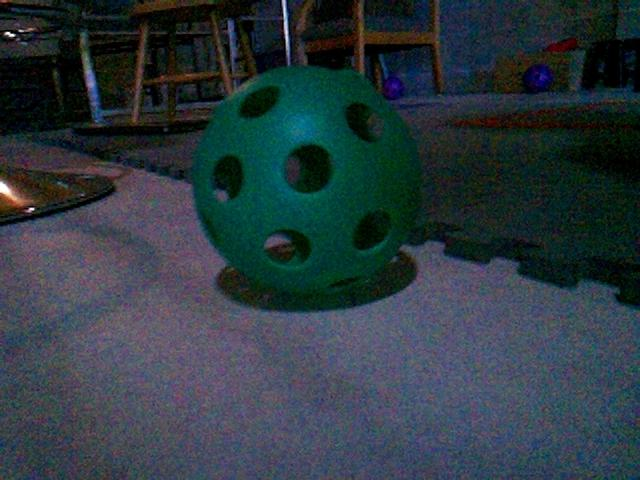Green: (193, 67, 420, 298)
Purple: (521, 62, 556, 95), (382, 76, 406, 100)
